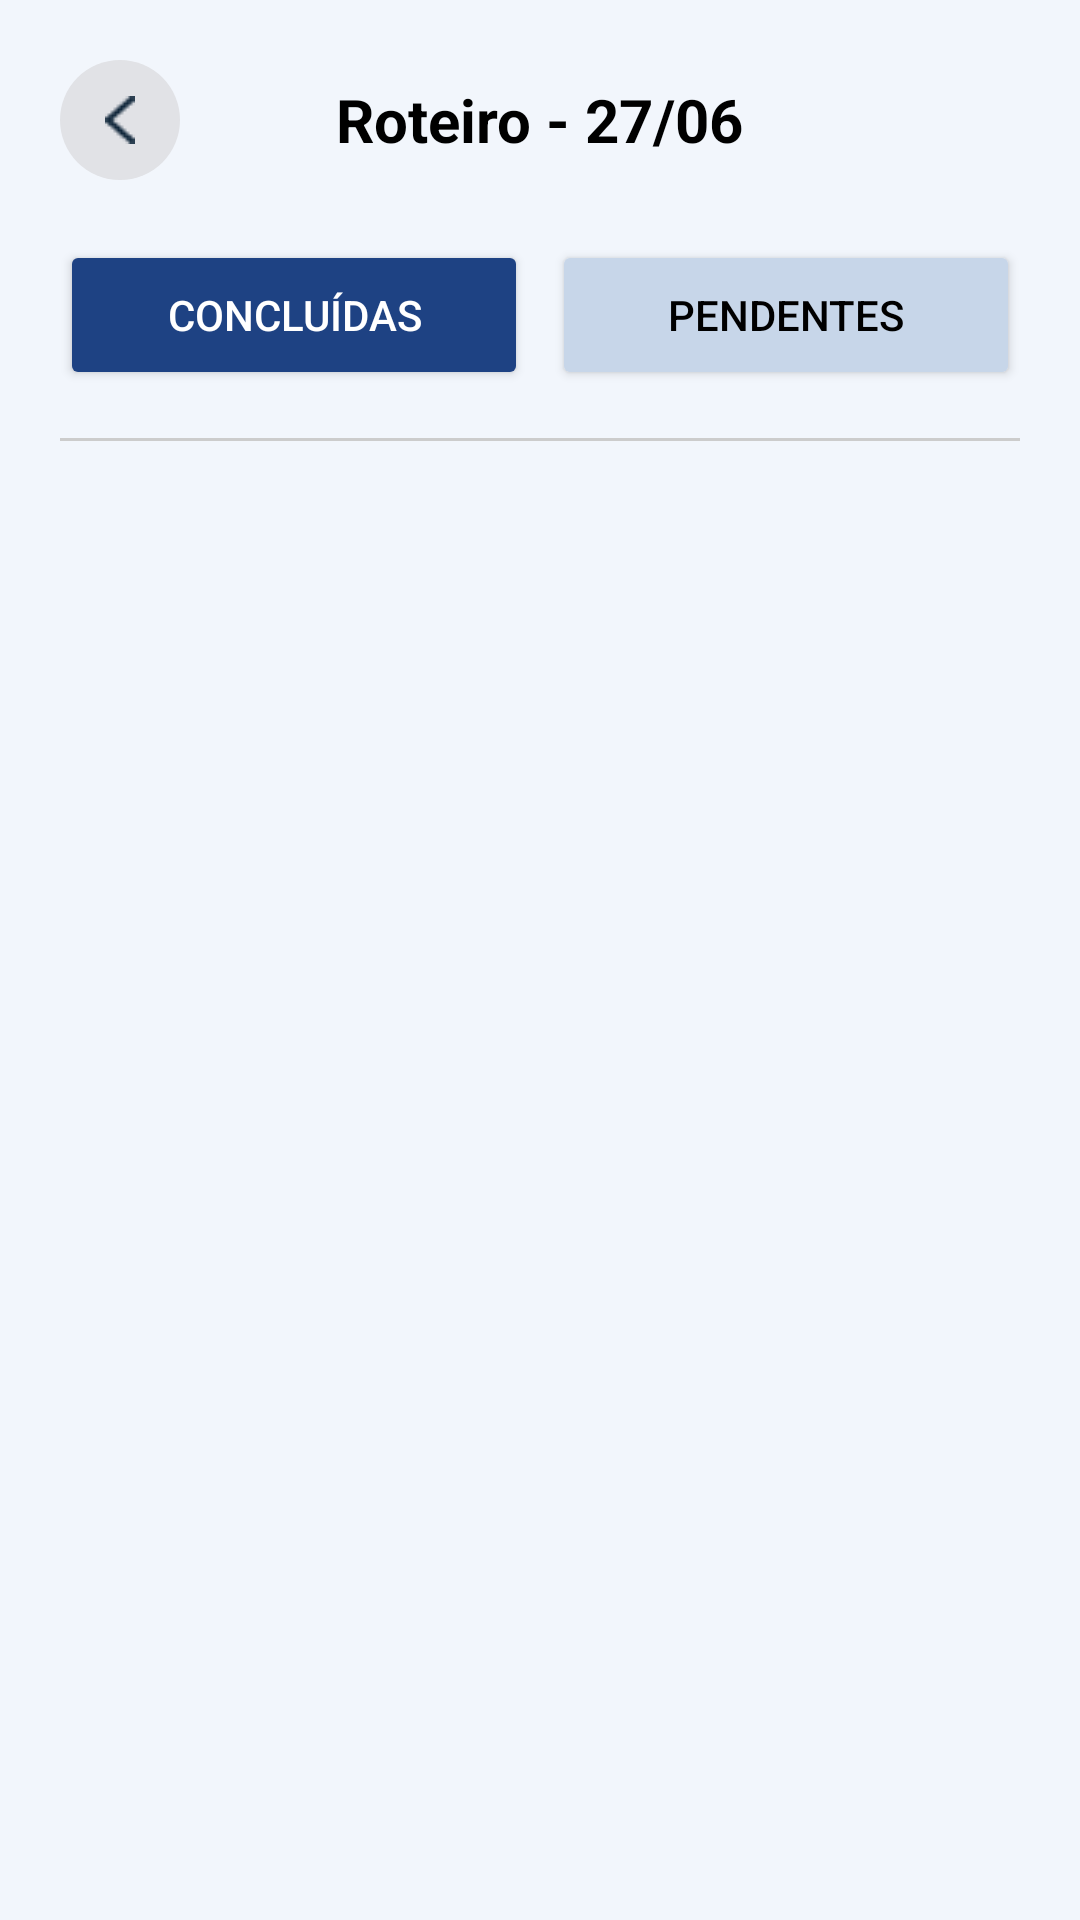

Named icons in this screenshot (1080*1920) and their centers, point (x, y):
arrowwww: point (120, 120)
